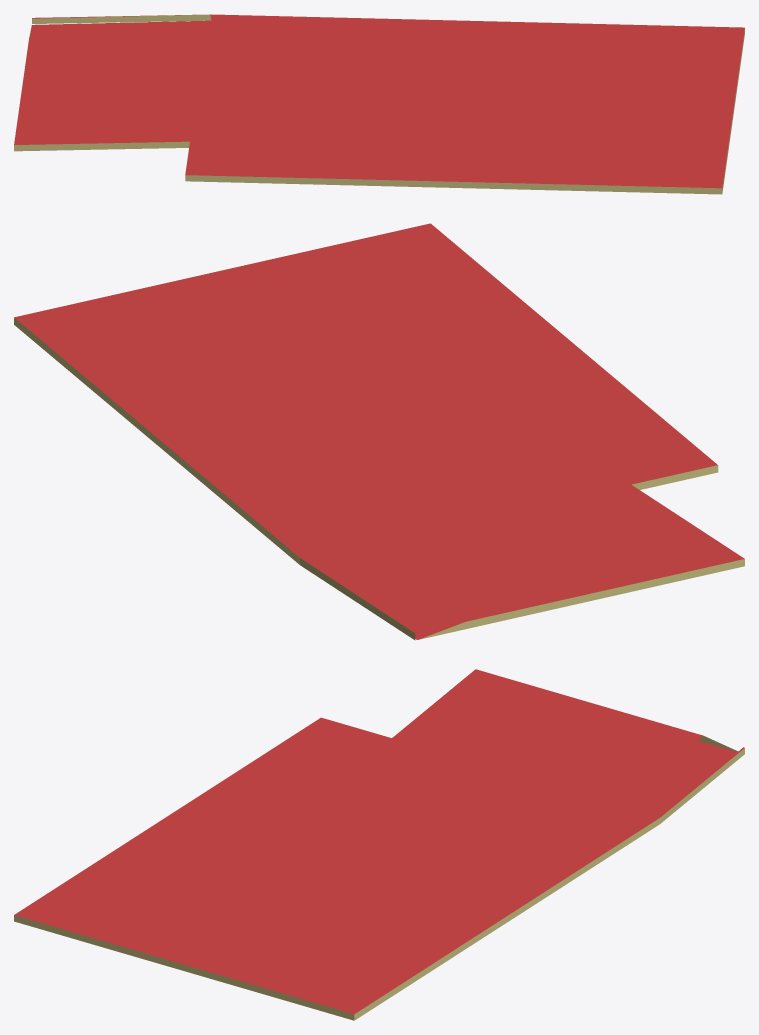
3 views of the same model, one above another, from view 1: azimuth 30°, elevation 25°; view 2: azimuth 150°, elevation 25°; view 3: azimuth 270°, elevation 25° (orthographic). The views are drawn at different scales.
Size of the model in its own units: 11.33 by 10.26 by 0.174.
